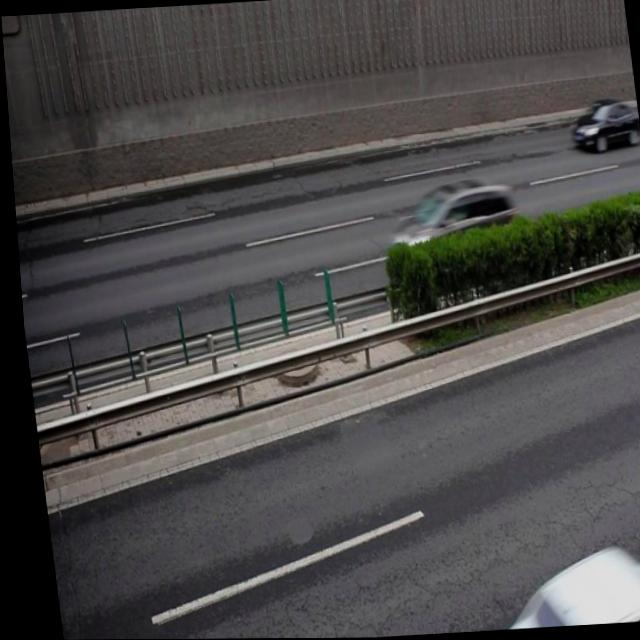car: (382, 176, 520, 282), (485, 543, 640, 630), (564, 96, 640, 153)
